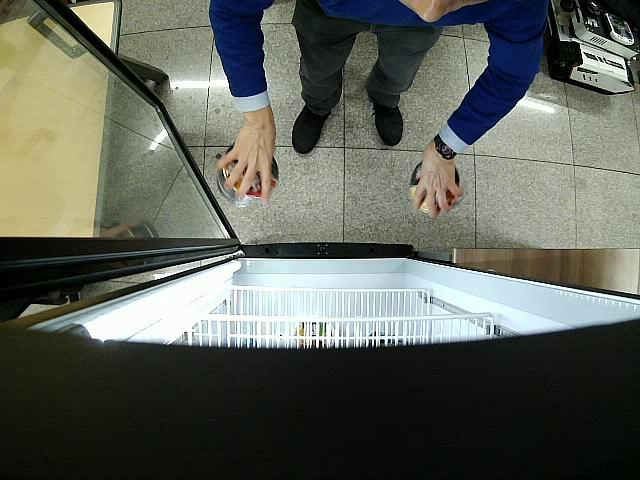00_hand: (218, 117, 276, 205), (414, 149, 465, 219)
07_buldak_L: (218, 145, 279, 202), (410, 161, 460, 213)
